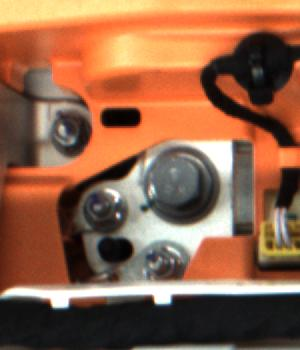nut_b: (140, 147, 223, 223)
screw_s: (41, 119, 88, 162), (76, 190, 128, 225), (144, 247, 177, 279)
